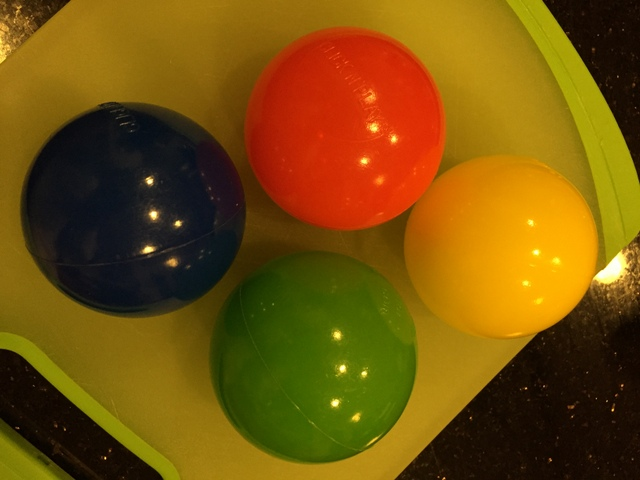Ball: (243, 27, 443, 234)
